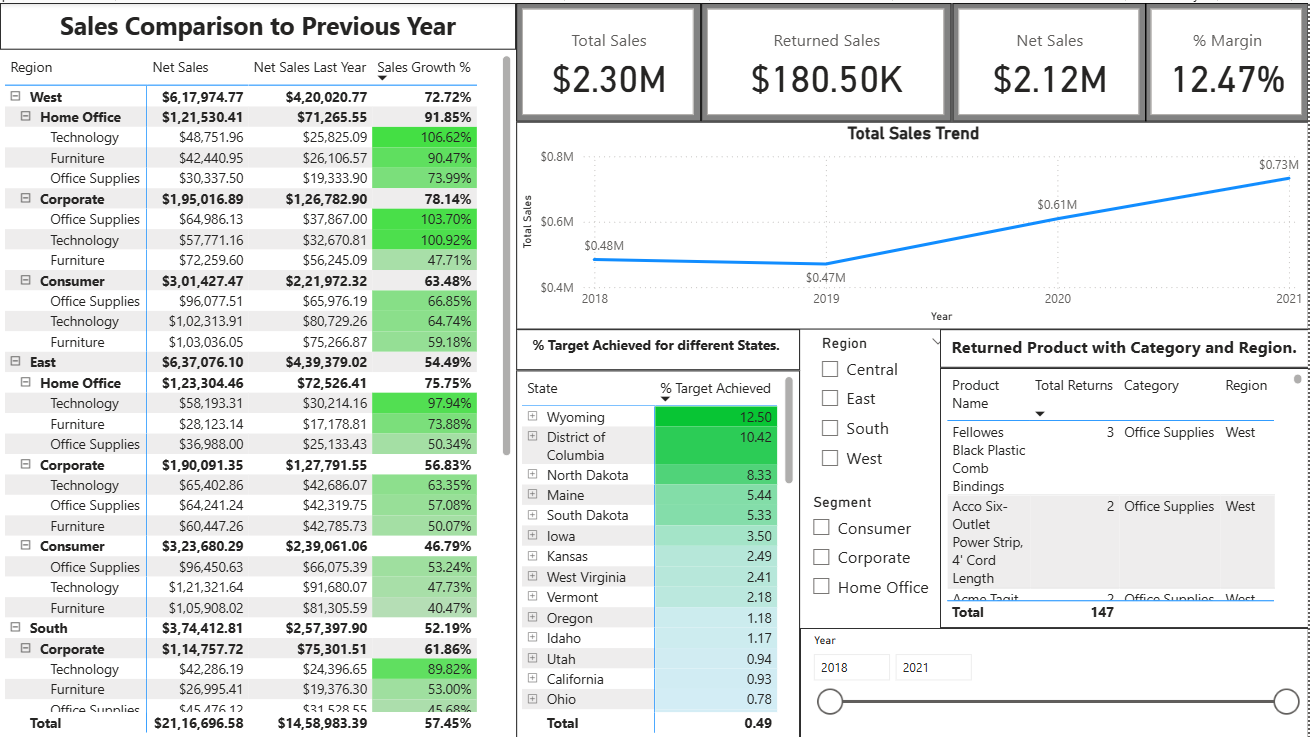

Layout of this report page (visuals, bound fields, positions):
{"tool":"powerbi","page":{"name":"Page 1","canvas":[1280,720],"ordinal":0},"visuals":[{"type":"cardVisual","fields":{"Data":["Orders.Net Sales"]},"box":[931.8,0,189.5,116.2],"z":0},{"type":"cardVisual","fields":{"Data":["Orders.Total Sales"]},"box":[505,0,181,116.2],"z":1000},{"type":"cardVisual","fields":{"Data":["Orders.Returned Sales"]},"box":[686,0,244.6,116.2],"z":2000},{"type":"pivotTable","fields":{"Rows":["Orders.Region","Orders.Segment","Product.Category"],"Values":["Orders.Net Sales","Orders.Sales Last Year","Orders.Sales Growth %"]},"box":[0,46.5,505,672.6],"z":3000},{"type":"slicer","fields":{"Values":["Orders.Region"]},"box":[791.8,319.7,145.5,168.8],"z":4000},{"type":"slicer","fields":{"Values":["Orders.Year"]},"box":[782.6,611.4,497.7,108.8],"z":5000},{"type":"cardVisual","fields":{"Data":["Orders.% Margin"]},"box":[1120.1,0,160.2,116.2],"z":6000},{"type":"slicer","fields":{"Values":["Orders.Segment"]},"box":[782.6,474.5,165.1,123.5],"z":7000},{"type":"pivotTable","fields":{"Rows":["Orders.State","Orders.Year","Orders.Month"],"Values":["Orders.% Target Achieved"]},"box":[505,359.5,277.6,360.7],"z":8000},{"type":"lineChart","title":"Total Sales Trend","fields":{"Y":["Orders.Total Sales"],"Category":["Orders.Year"]},"box":[505,116.2,775.3,203],"z":9000},{"type":"tableEx","fields":{"Values":["Product.Product Name","Orders.Total Returns","Product.Category","Orders.Region"]},"box":[919.6,357.1,360.7,254.3],"z":10000},{"type":"textbox","box":[505,319.2,277.6,40.4],"z":11000},{"type":"textbox","box":[919.6,319.2,360.7,37.9],"z":12000},{"type":"textbox","box":[0,0,505,45.2],"z":13000}]}

Visuals, with their boxes in screenshot pixels (x1, y1, x2, y2), scaled from the page's 1280x720 canvas onto the 1310x737 screenshot:
cardVisual - Orders.Net Sales: (954,0,1148,119)
cardVisual - Orders.Total Sales: (517,0,702,119)
cardVisual - Orders.Returned Sales: (702,0,952,119)
pivotTable - Orders.Region x Orders.Segment: (0,48,517,736)
slicer - Orders.Region: (810,327,959,500)
slicer - Orders.Year: (801,626,1309,736)
cardVisual - Orders.% Margin: (1146,0,1309,119)
slicer - Orders.Segment: (801,486,970,612)
pivotTable - Orders.State x Orders.Year: (517,368,801,736)
"Total Sales Trend" lineChart: (517,119,1309,327)
tableEx - Product.Product Name x Orders.Total Returns: (941,366,1309,626)
textbox: (517,327,801,368)
textbox: (941,327,1309,366)
textbox: (0,0,517,46)
